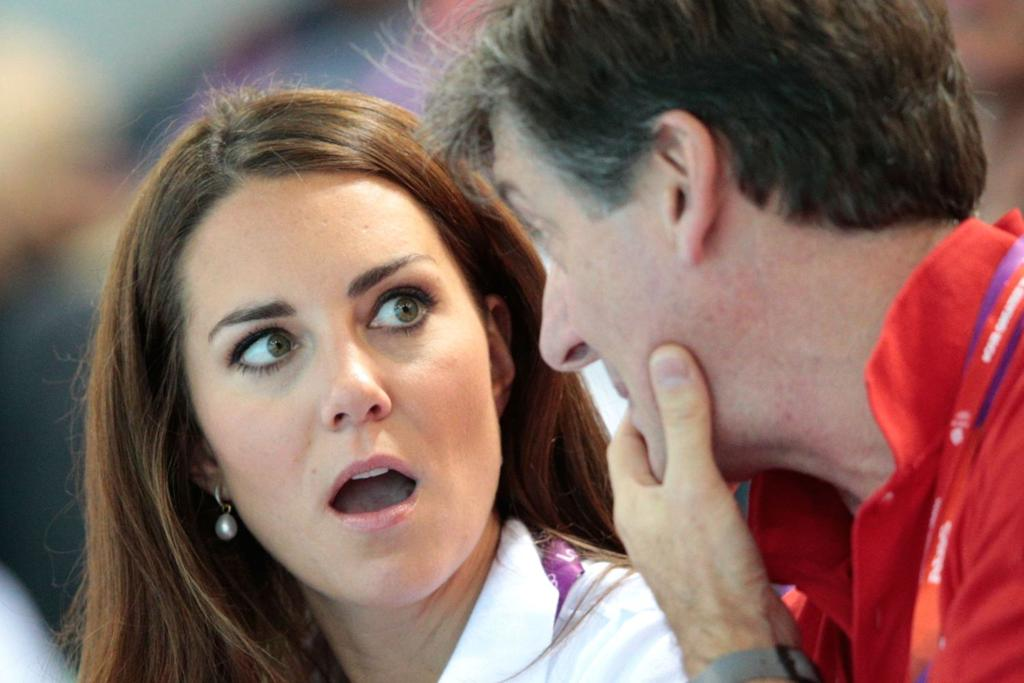face: (180, 174, 500, 600), (480, 32, 740, 484)
